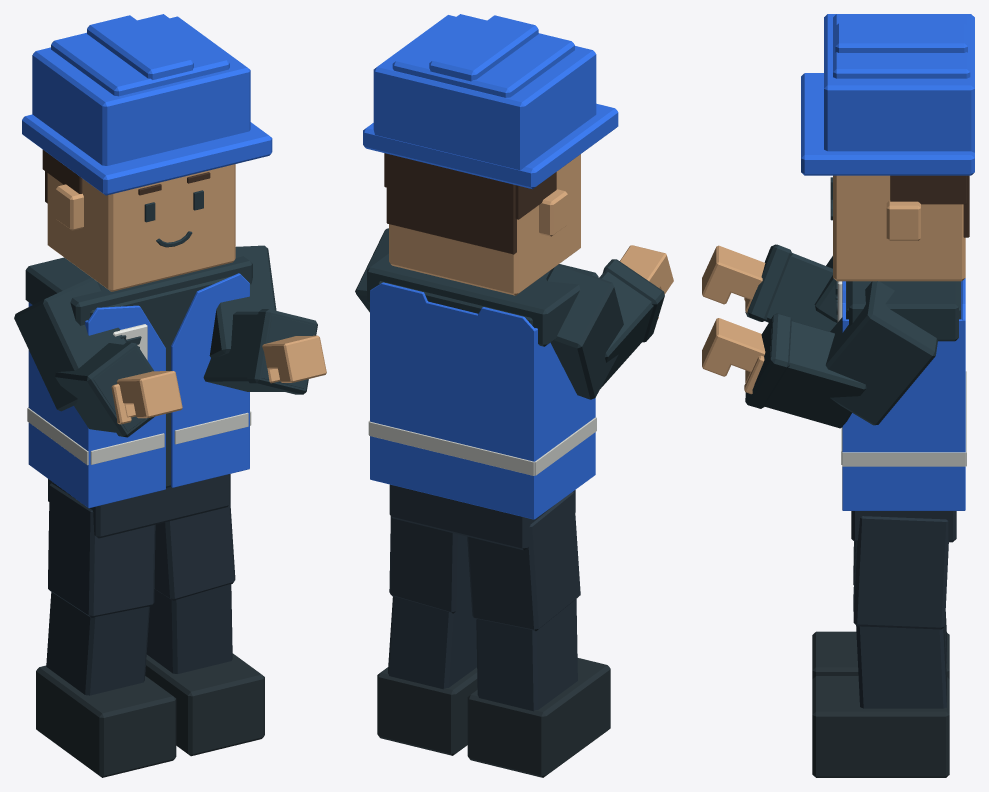
File: picker-figure.glb
The picture shows the model from 3 angles, left to right: view 1: azimuth 30°, elevation 25°; view 2: azimuth 150°, elevation 25°; view 3: azimuth 270°, elevation 25°; orthographic projection. The views are drawn at different scales.
Visible parts, largest first — view 1: picker-figure__batch_10, picker-figure__batch_20, picker-figure__batch_07, picker-figure__batch_00, picker-figure__batch_02, picker-figure__batch_03, picker-figure__batch_01, picker-figure__batch_06, picker-figure__batch_04, picker-figure__batch_05, picker-figure__batch_13, picker-figure__batch_14 (+8 smaller); view 2: picker-figure__batch_20, picker-figure__batch_10, picker-figure__batch_07, picker-figure__batch_08, picker-figure__batch_00, picker-figure__batch_02, picker-figure__batch_01, picker-figure__batch_04, picker-figure__batch_06, picker-figure__batch_03, picker-figure__batch_05, picker-figure__batch_13 (+5 smaller); view 3: picker-figure__batch_10, picker-figure__batch_20, picker-figure__batch_07, picker-figure__batch_03, picker-figure__batch_05, picker-figure__batch_16, picker-figure__batch_14, picker-figure__batch_04, picker-figure__batch_11, picker-figure__batch_06, picker-figure__batch_15, picker-figure__batch_12 (+5 smaller).
Boxes of the visible parts, box(x1,y1,x2,y2) form: picker-figure__batch_10: box(22, 14, 272, 195); picker-figure__batch_20: box(28, 273, 249, 508); picker-figure__batch_07: box(47, 164, 235, 291); picker-figure__batch_00: box(36, 665, 176, 777); picker-figure__batch_02: box(48, 483, 155, 617); picker-figure__batch_03: box(145, 653, 264, 756); picker-figure__batch_01: box(46, 592, 149, 695); picker-figure__batch_06: box(25, 256, 252, 487); picker-figure__batch_04: box(146, 584, 232, 673); picker-figure__batch_05: box(154, 503, 235, 600); picker-figure__batch_13: box(14, 277, 126, 411); picker-figure__batch_14: box(203, 309, 317, 394); picker-figure__batch_20: box(370, 282, 595, 519); picker-figure__batch_10: box(363, 14, 618, 189); picker-figure__batch_07: box(389, 154, 580, 295); picker-figure__batch_08: box(384, 153, 556, 254); picker-figure__batch_00: box(467, 658, 610, 777); picker-figure__batch_02: box(467, 492, 580, 631); picker-figure__batch_01: box(476, 599, 577, 711); picker-figure__batch_04: box(388, 596, 476, 689); picker-figure__batch_06: box(367, 253, 598, 346); picker-figure__batch_03: box(377, 667, 477, 755); picker-figure__batch_05: box(389, 516, 471, 613); picker-figure__batch_13: box(546, 264, 623, 399); picker-figure__batch_10: box(801, 14, 974, 175); picker-figure__batch_20: box(842, 278, 965, 510); picker-figure__batch_07: box(833, 175, 965, 281); picker-figure__batch_03: box(812, 676, 949, 777); picker-figure__batch_05: box(853, 516, 948, 629); picker-figure__batch_16: box(825, 281, 937, 425); picker-figure__batch_14: box(745, 313, 866, 428); picker-figure__batch_04: box(856, 625, 946, 708); picker-figure__batch_11: box(745, 244, 836, 331); picker-figure__batch_06: box(846, 281, 960, 341); picker-figure__batch_15: box(702, 318, 765, 394); picker-figure__batch_12: box(702, 245, 765, 313).
Bounding box in the file's own units: 0.5998 × 1.7 × 0.5962.
